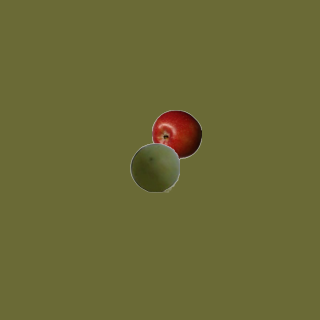Apple Braeburn: (151, 109, 201, 159)
Grape White 4: (129, 142, 179, 192)
